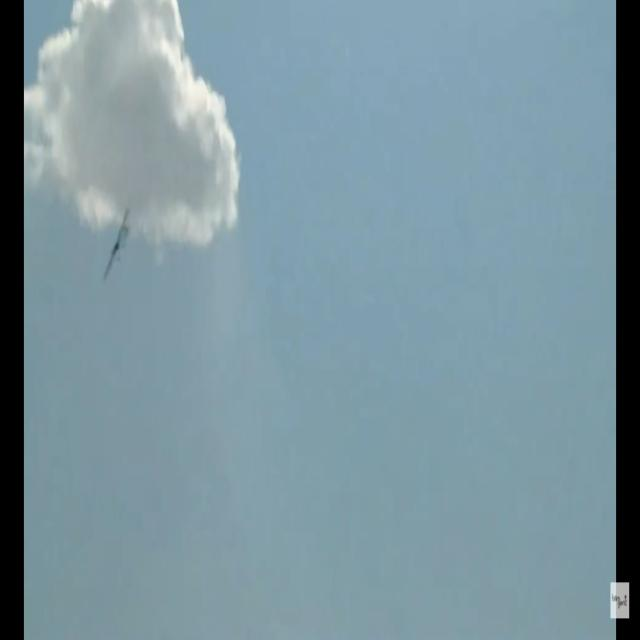iha: (38, 242, 65, 244)
